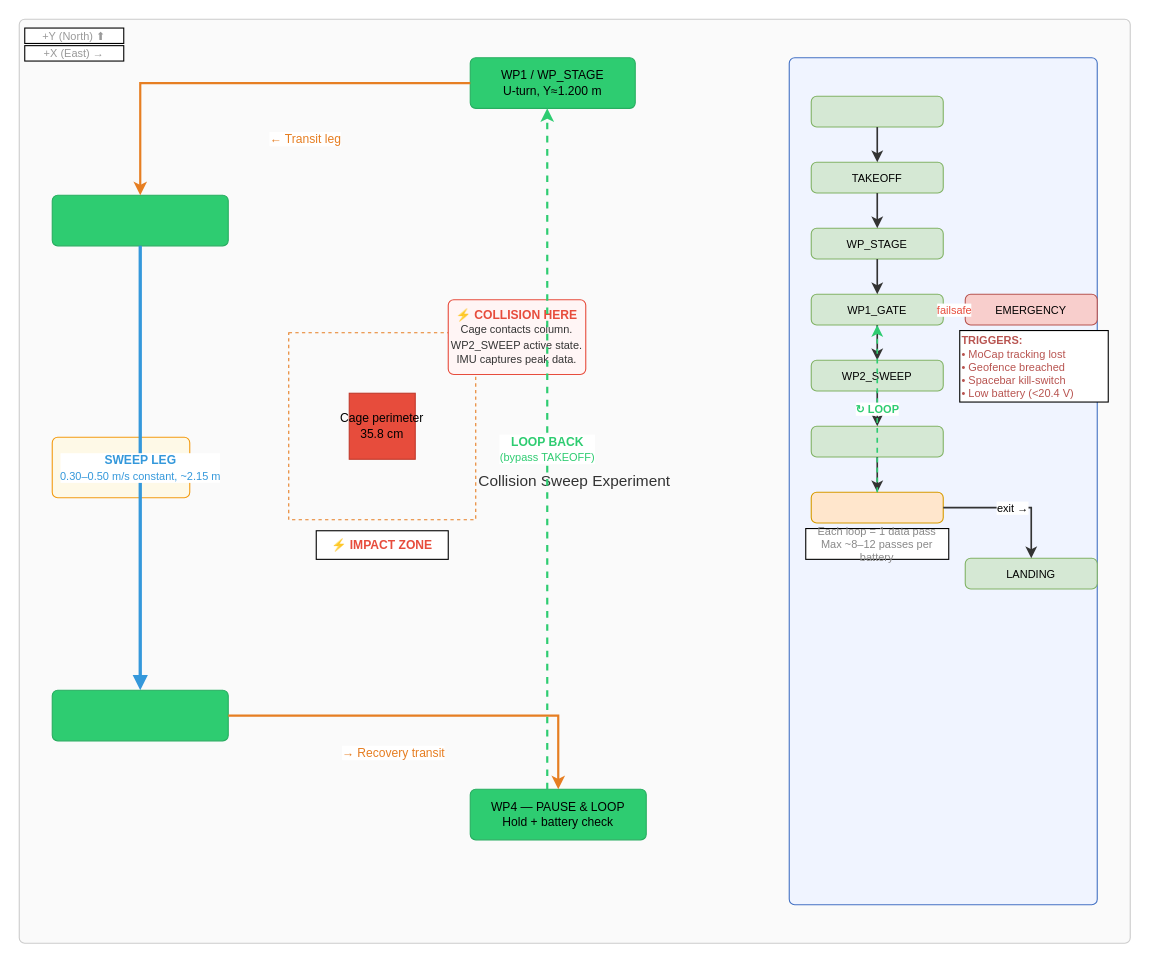
The diagram is 1150 pixels wide and 963 high, and some of its shapes have lost their labels. Each missing label, with the box of its shape:
Column 9 cm: (348, 392, 415, 459)
DISARMED: (810, 95, 943, 127)
FLIGHT STATE MACHINE: (788, 57, 1097, 905)
WP2 — GATE (Start-Point) Y≈0.950–1.100 m: (51, 194, 228, 246)
WP3 — RECOVERY (End-Point) Y≈−1.200 m: (51, 689, 228, 741)
WP3_RECOVER: (810, 425, 943, 457)
WP4_PAUSE: (810, 491, 943, 523)
θ = 75° or 45° approach angle velocity vs column normal: (51, 436, 190, 498)
